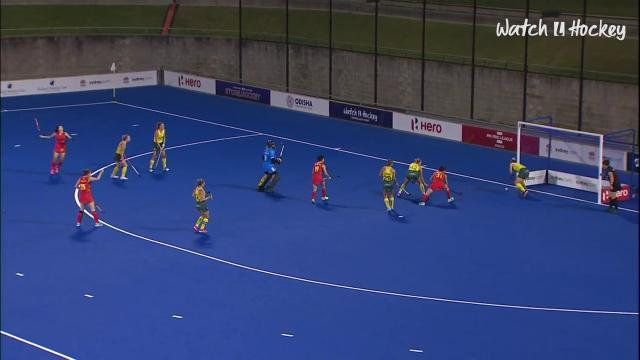ball: (501, 185, 512, 192)
